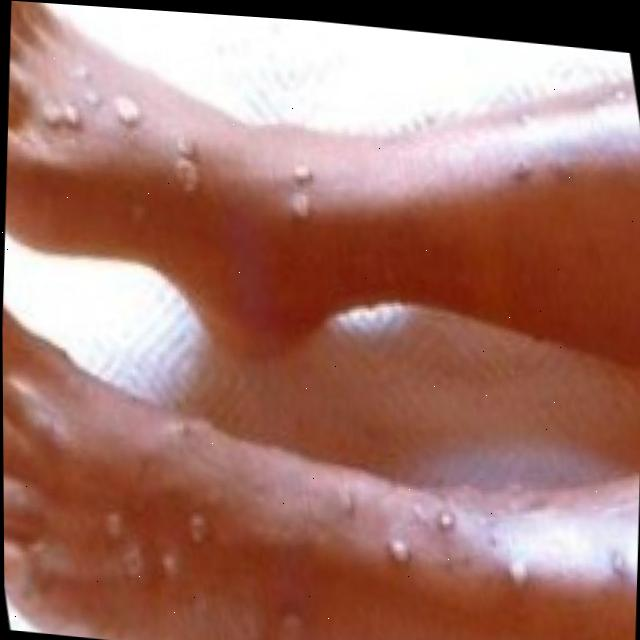Eczema: (3, 40, 571, 292), (71, 401, 632, 640)
